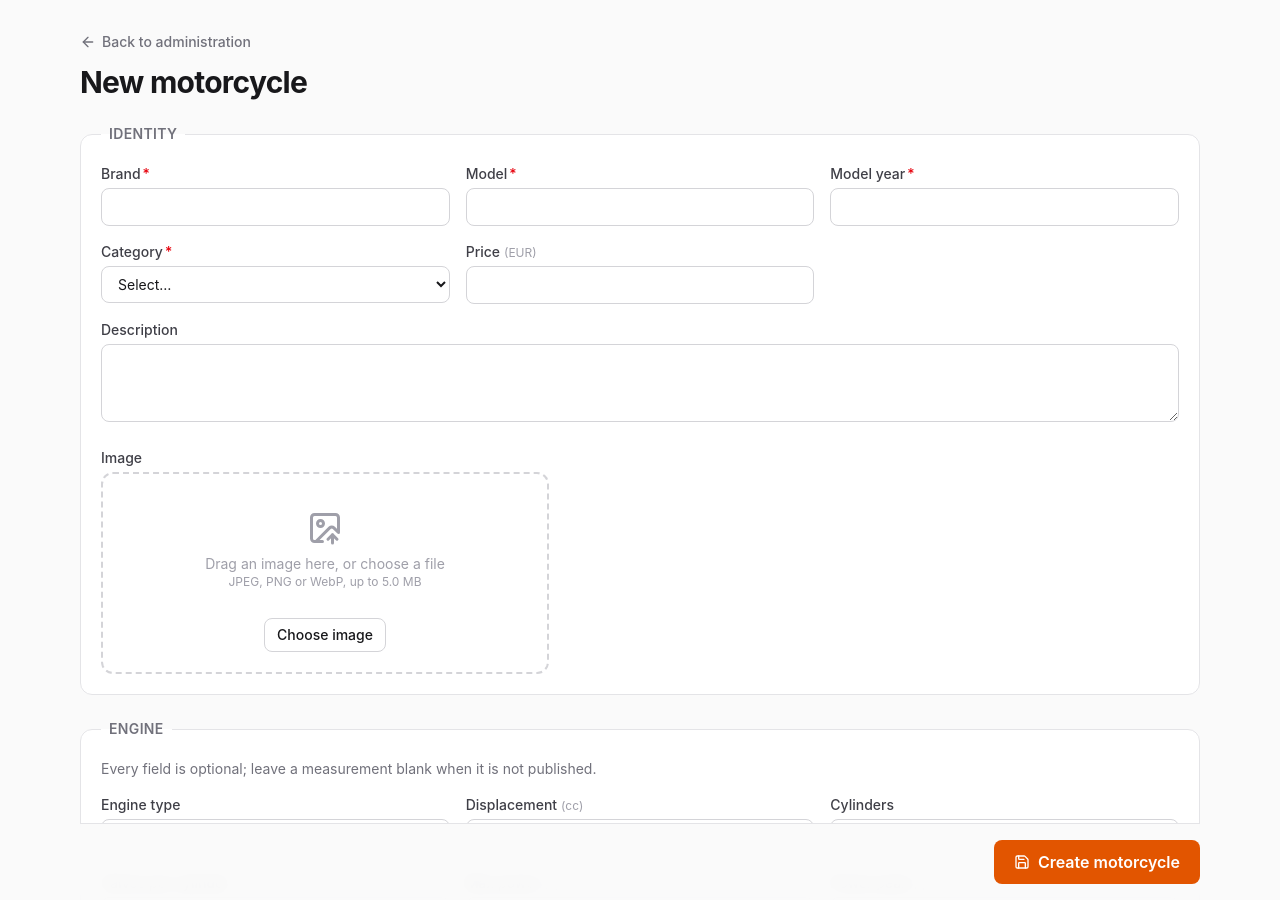
it: AdminMotorcycleFormPage create › blocks the request and names the missing fields when nothing is filled in
Click the button "Create motorcycle": (1097, 862) [994,840,1200,884]
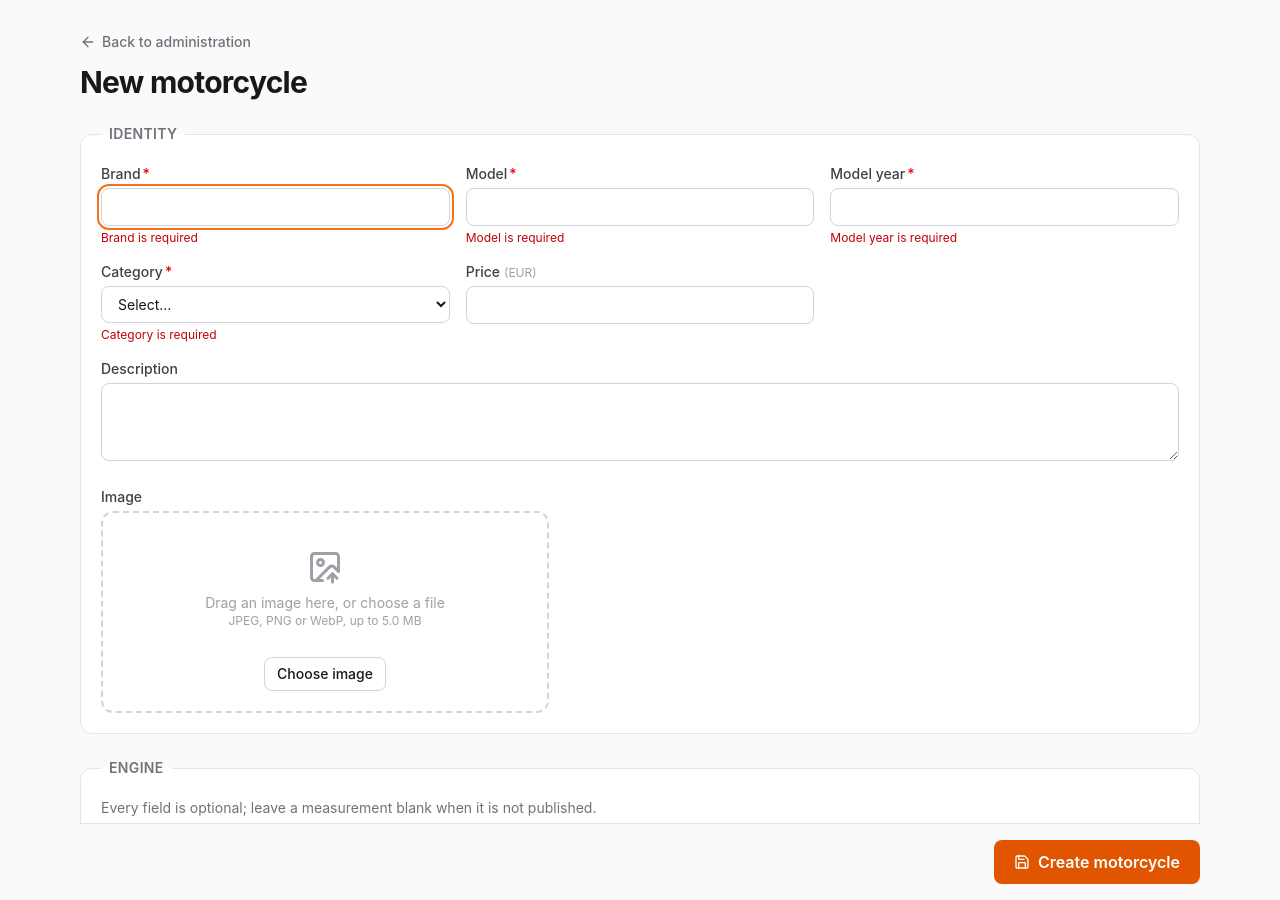
Expected: the text "Brand is required" is shown, [101,230,198,245]
Expected: the text "Model is required" is shown, [466,230,564,245]
Expected: the text "Category is required" is shown, [101,327,217,342]
